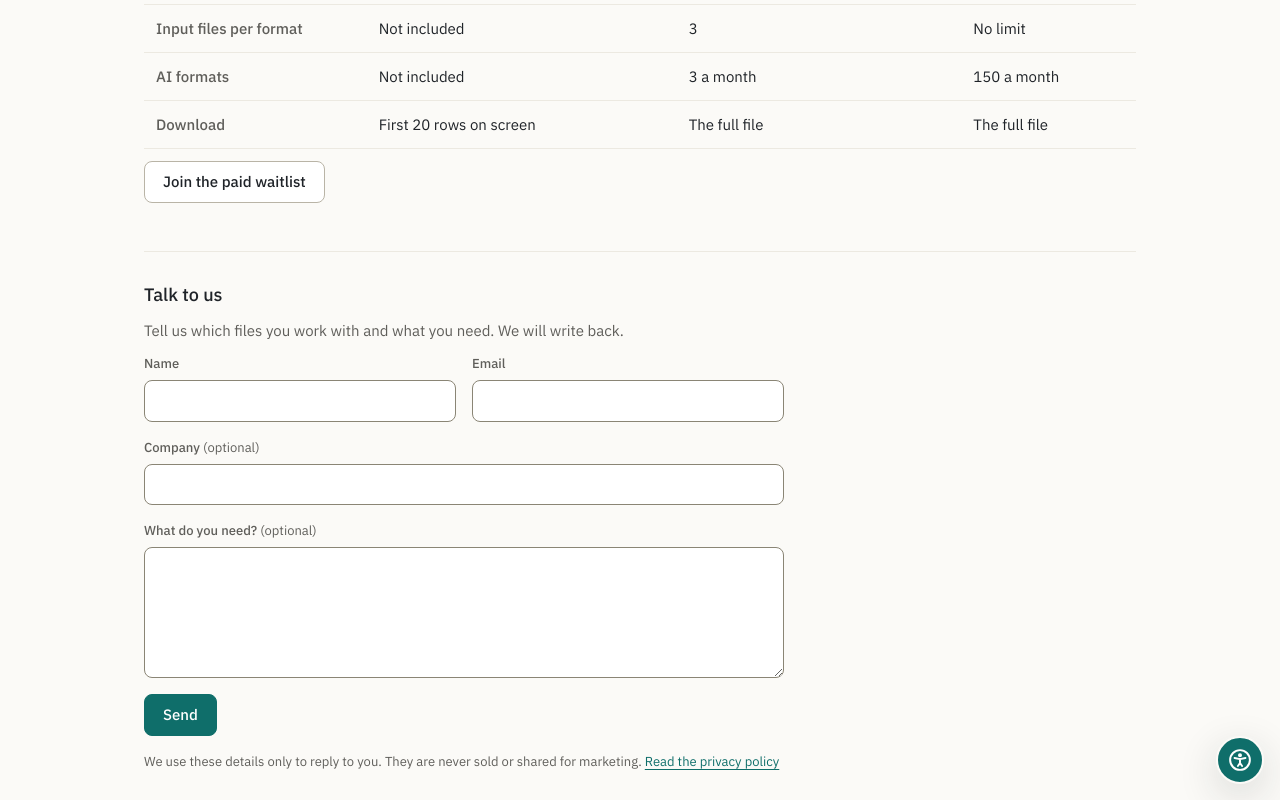
the lead form on the business page › shows what the server said when it says rateLimited, and keeps what was typed
(page scrolled)
Type "Dana Levi" into the field labelled "Name" at {"x": 300, "y": 401}, box x1=144 y1=380 x2=456 y2=422
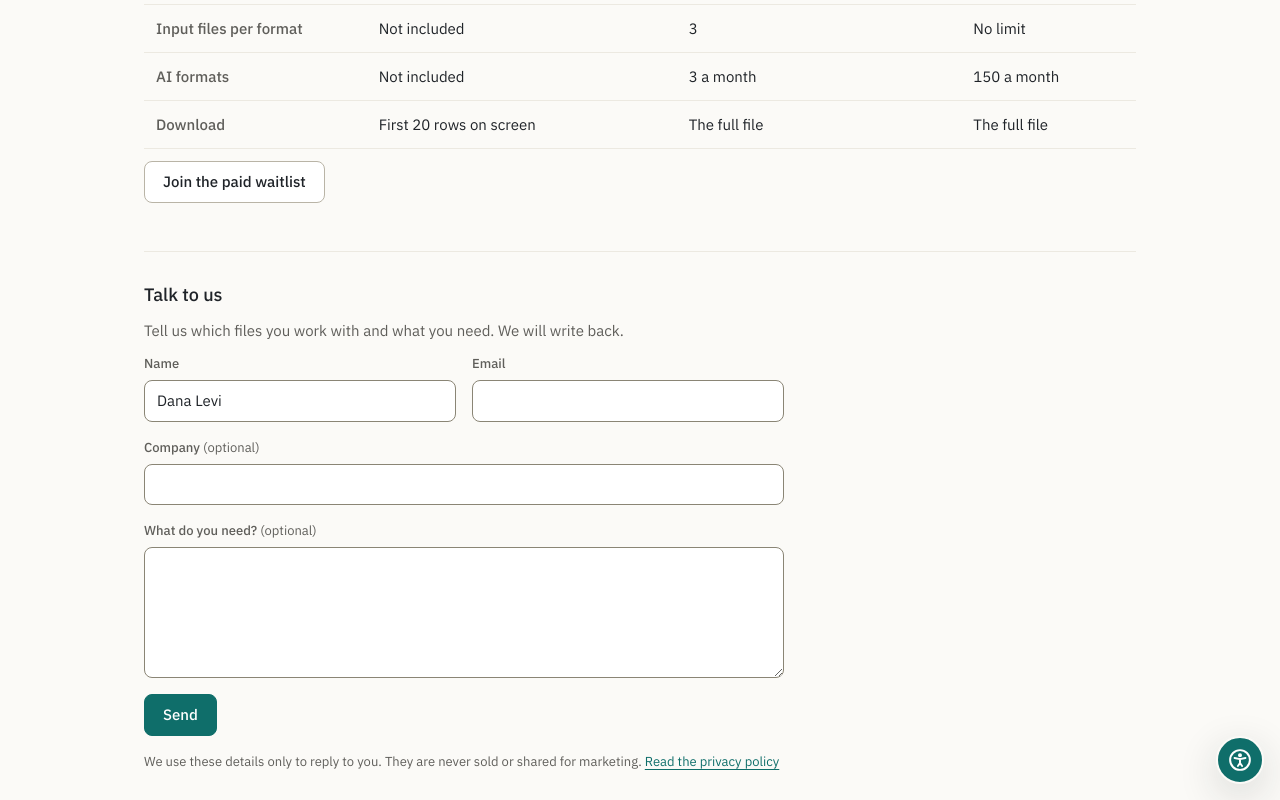
Type "dana@example.com" into the field labelled "Email" at {"x": 628, "y": 401}, box x1=472 y1=380 x2=784 y2=422
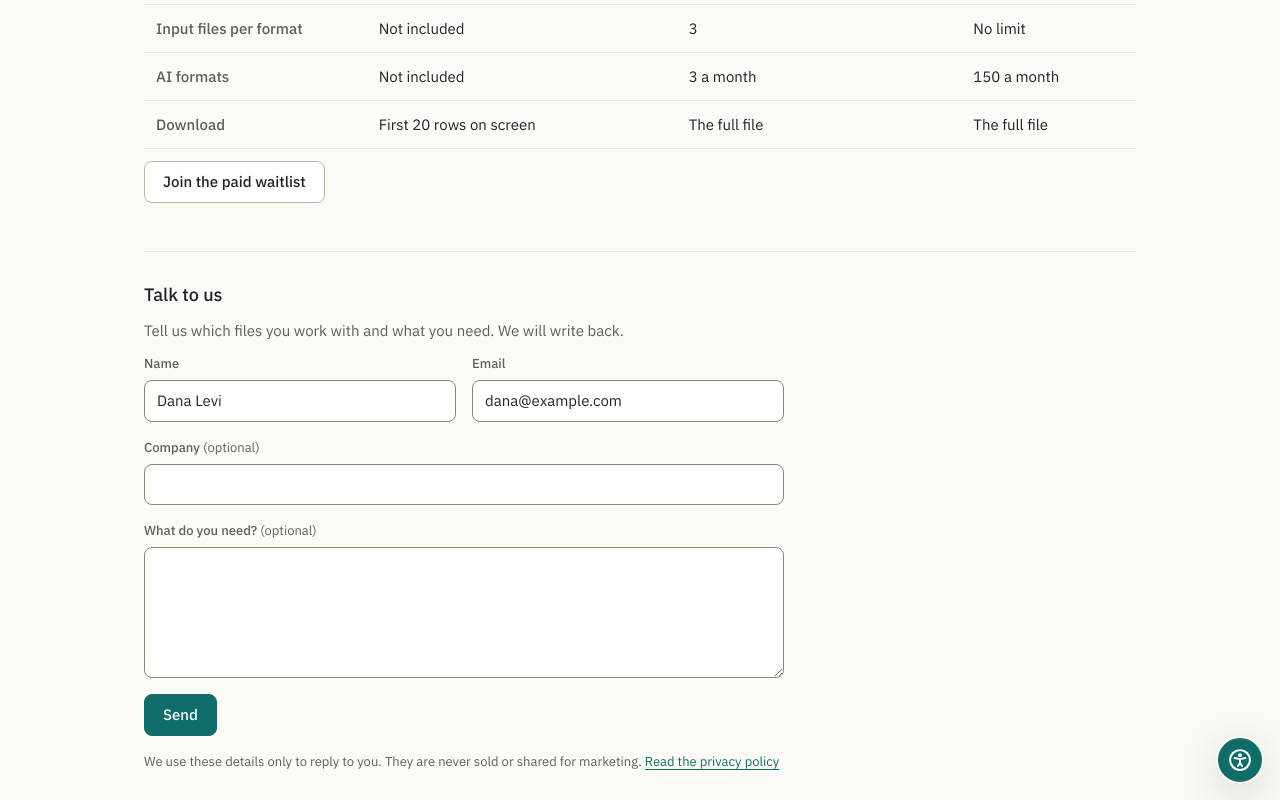
Type "Acme Ltd" into the field labelled "Company (optional)" at {"x": 464, "y": 484}, box x1=144 y1=464 x2=784 y2=505
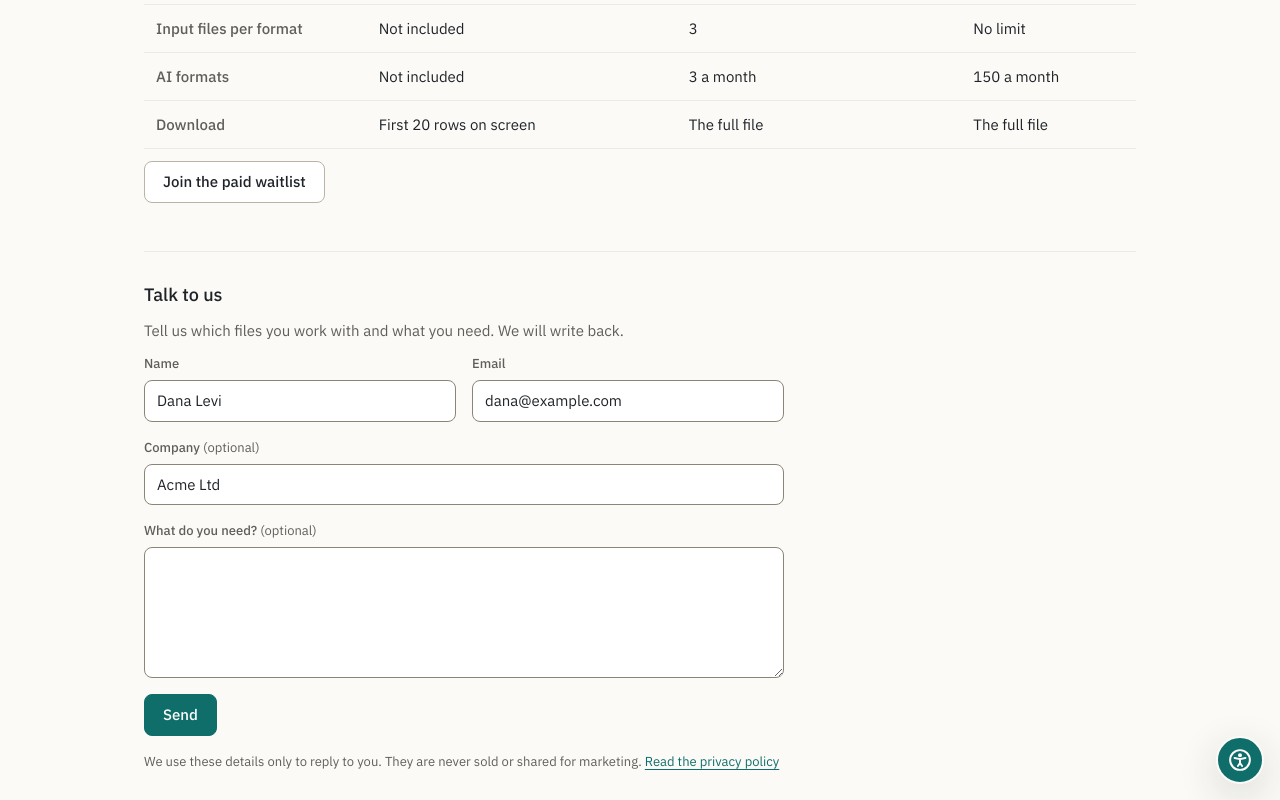
Type "Thirty supplier files a month." into the text box labelled "What do you need? (optional)" at {"x": 464, "y": 612}, box x1=144 y1=547 x2=784 y2=678
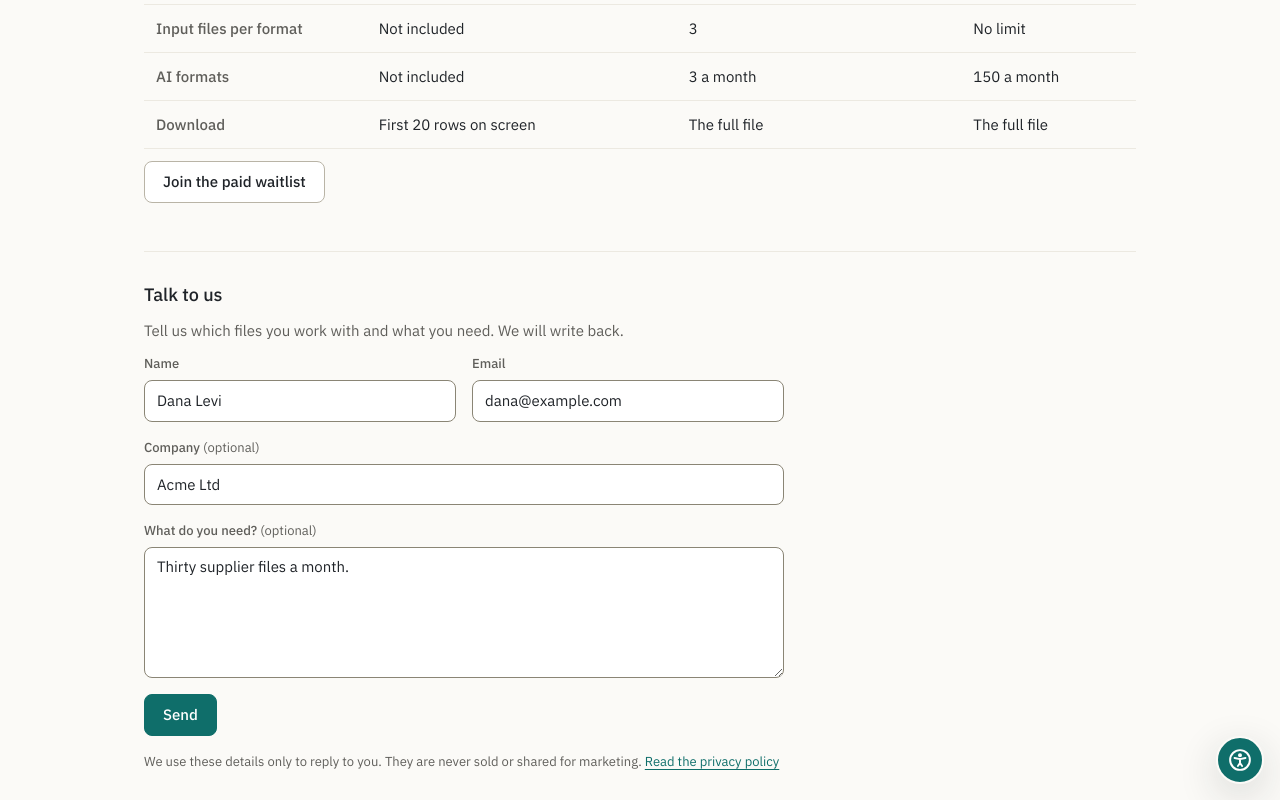
Click the button "Send" at {"x": 180, "y": 715}, box x1=144 y1=694 x2=217 y2=736
(page scrolled)
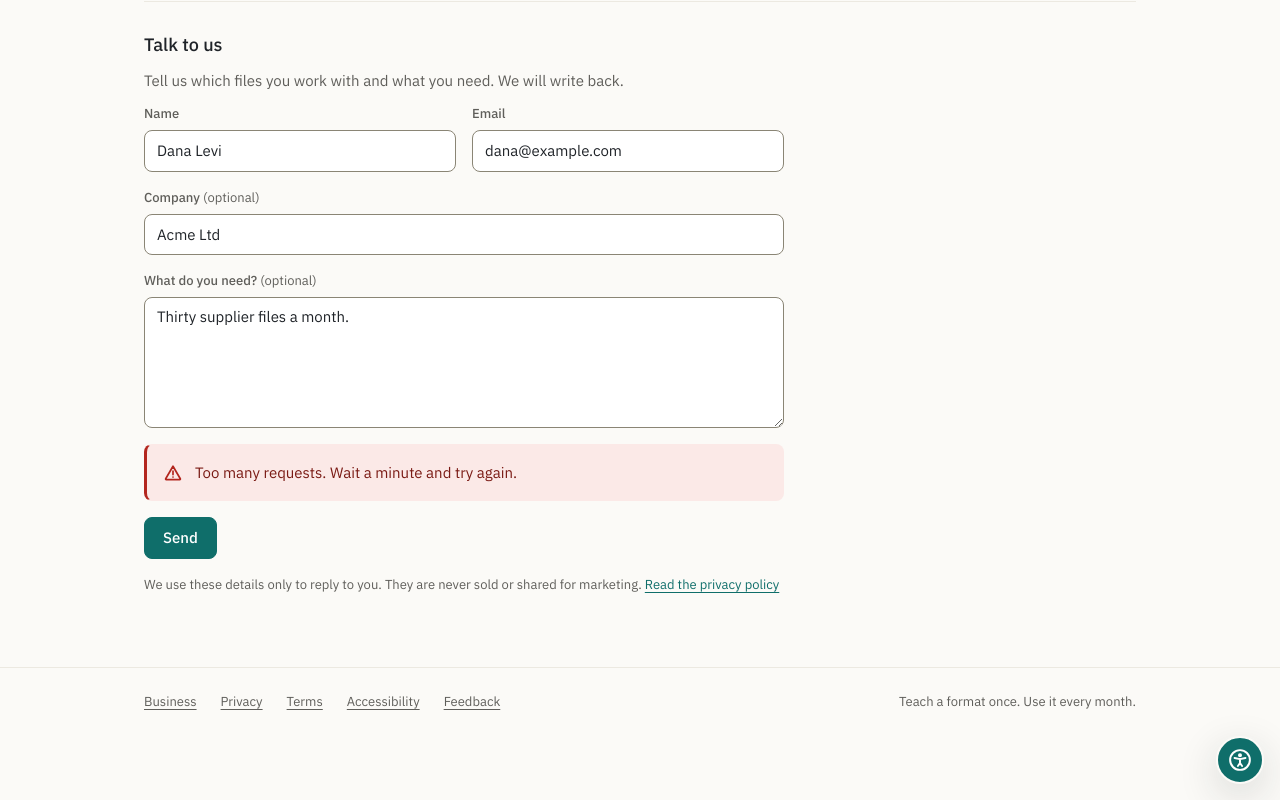
Check: the button "Send" is enabled, box x1=144 y1=517 x2=217 y2=559
Check: the text "Too many requests. Wait a minute and try again." is shown, box x1=195 y1=461 x2=517 y2=484
